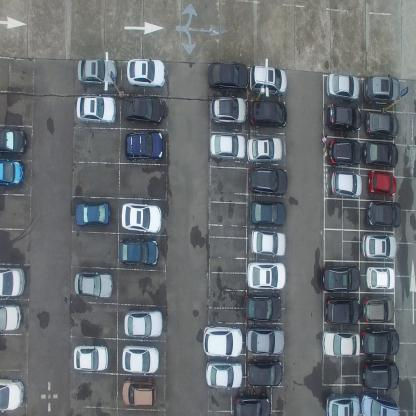car: (208, 57, 250, 92), (121, 198, 162, 232), (202, 322, 243, 356), (123, 92, 163, 126), (124, 129, 165, 162), (77, 56, 119, 87), (76, 93, 118, 124), (250, 62, 289, 95), (249, 95, 288, 128), (124, 306, 163, 339), (118, 235, 159, 265), (322, 326, 360, 358), (247, 259, 286, 290), (243, 292, 282, 323), (74, 269, 113, 300), (245, 324, 285, 354), (360, 358, 400, 388), (360, 326, 400, 356), (324, 293, 360, 326), (127, 56, 166, 86), (248, 165, 288, 194), (209, 130, 246, 161), (246, 358, 284, 388), (122, 344, 160, 374), (322, 263, 361, 292), (121, 376, 157, 407), (249, 198, 286, 228), (208, 96, 247, 124), (247, 134, 283, 163), (250, 228, 286, 257), (364, 75, 400, 104), (362, 232, 398, 261), (327, 103, 362, 132), (206, 360, 242, 388), (366, 108, 399, 138), (74, 201, 112, 227), (326, 72, 360, 101), (364, 140, 398, 169), (73, 344, 108, 372), (361, 389, 398, 415), (330, 169, 363, 198), (233, 391, 271, 416), (0, 376, 25, 414), (366, 199, 401, 226), (362, 294, 395, 322), (328, 139, 362, 166), (0, 265, 26, 300), (324, 392, 360, 416), (0, 128, 29, 156), (366, 264, 395, 291), (366, 170, 396, 196), (0, 159, 26, 187), (0, 303, 23, 333)
